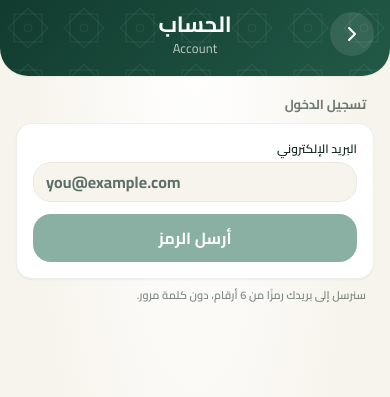
Test case: sending the code › an email with no account gets exactly the same answer (the screen never reveals it)
Later steps or results of the test are not shown.
Type "user@example.com" into the field labelled "البريد الإلكتروني".
click(195, 182); type("user@example.com")  # box [33,162,357,202]
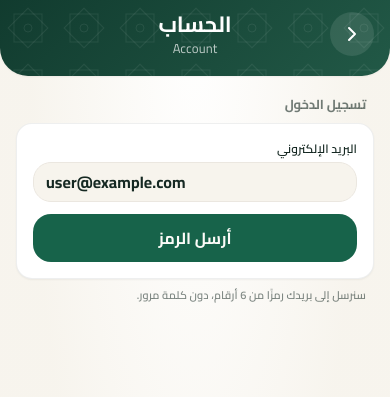
Click the button "أرسل الرمز".
click(195, 238)  # box [33,214,357,262]
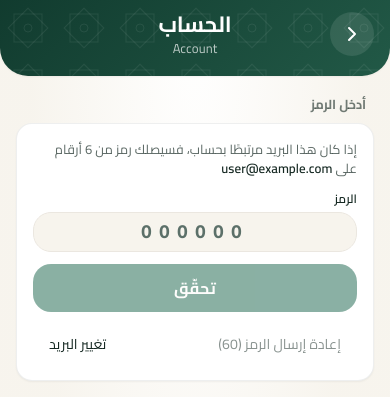
Now the field labelled "الرمز" is shown, box [33,212,357,252]
